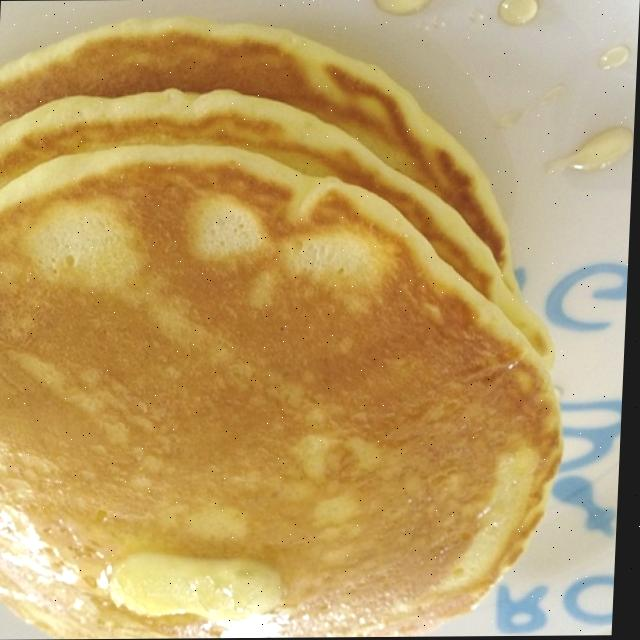面包点心: (0, 6, 640, 640)
